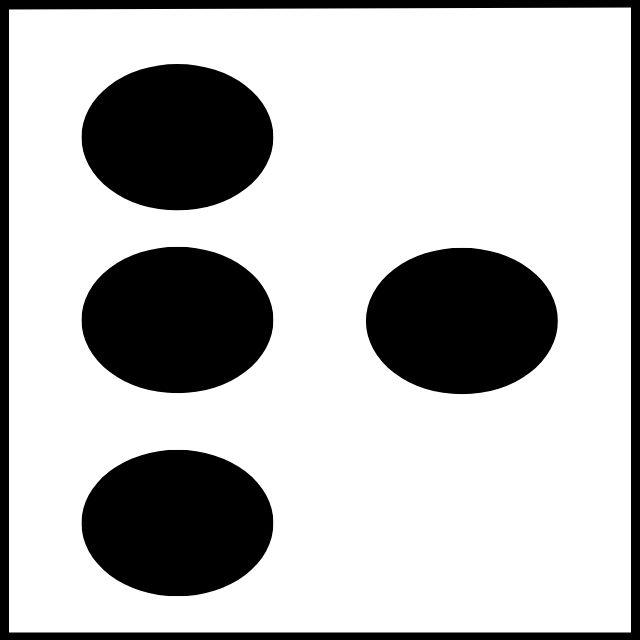one_cell_alphabet_rin: (80, 62, 560, 597)
